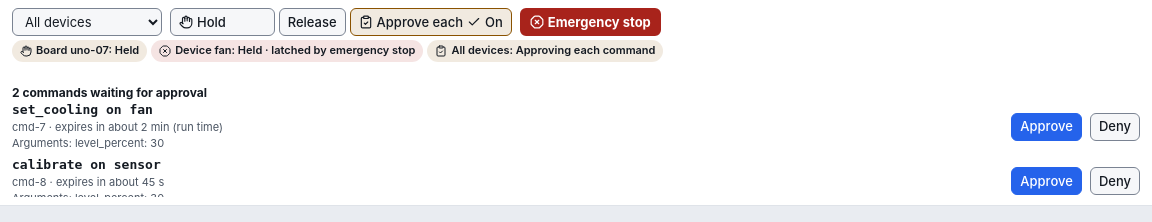
it: the interrupt controls on the live screen › names the wider scope that already covers the chosen one
Select "Device sensor" in the dropdown named "Scope" at (87, 22), box left=12, top=8, right=162, bottom=36
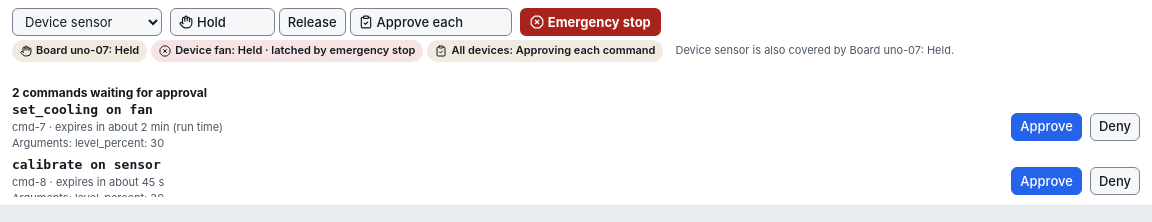
Result: the text "Device sensor is also covered by Board uno-07: Held." is shown at left=676, top=43, right=954, bottom=59
